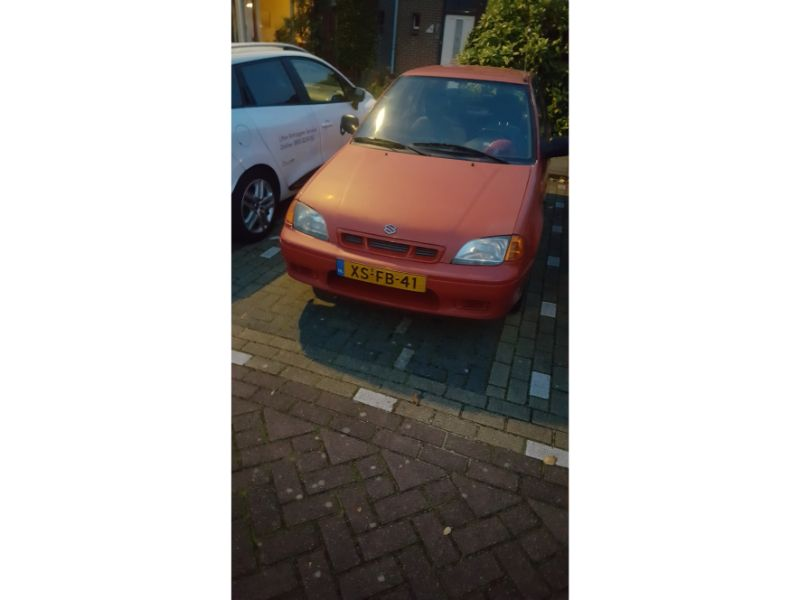kenteken: (335, 260, 430, 297)
